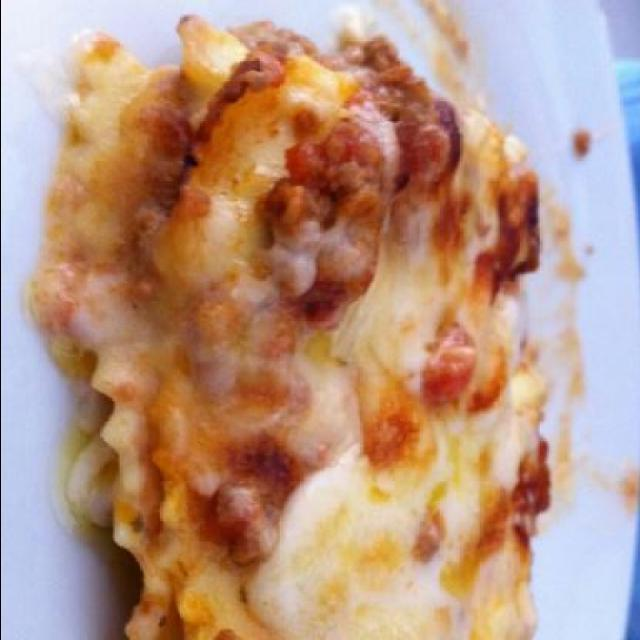Lasagna: (77, 63, 554, 626)
